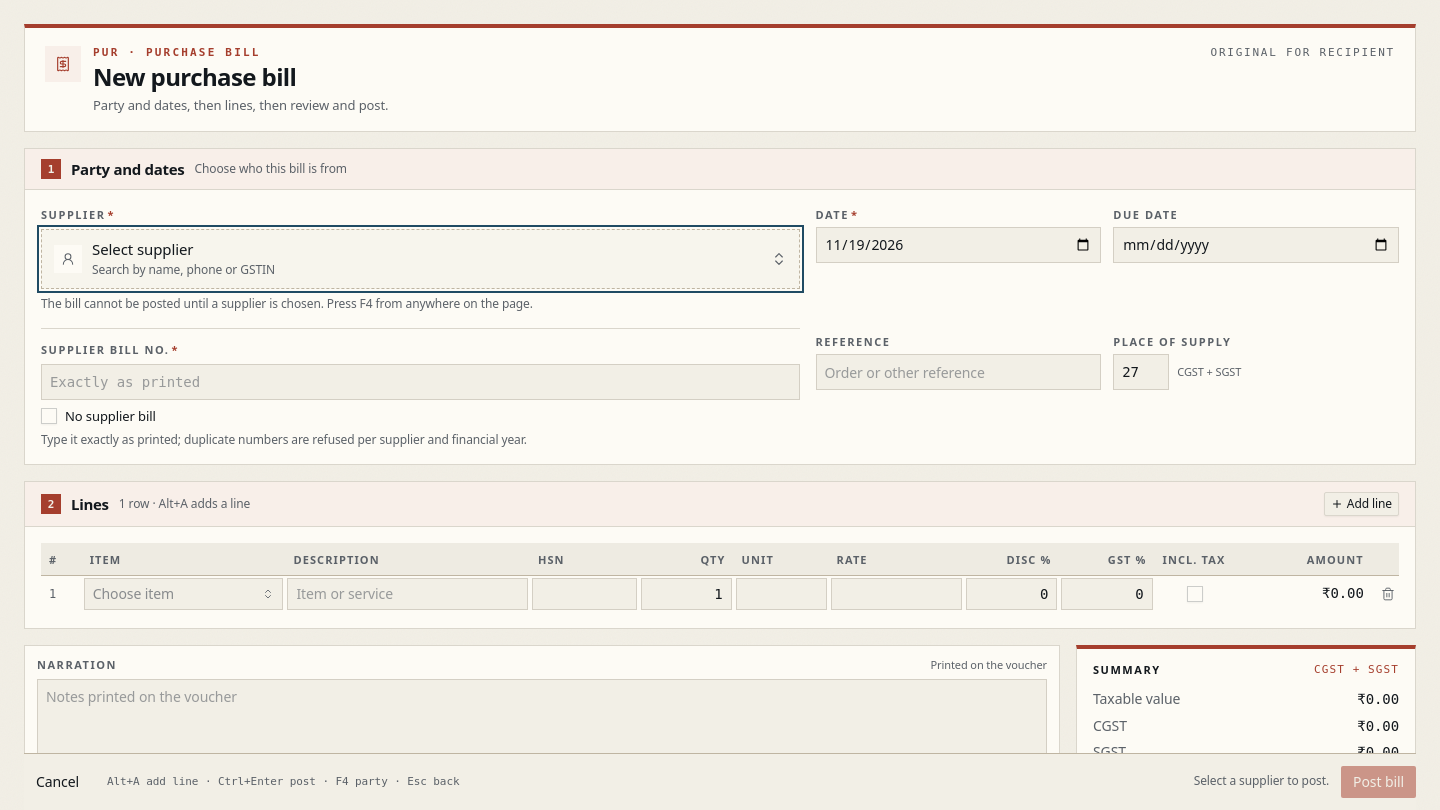
it: Purchase supplier bill number › shows a duplicate supplier bill inline on the field
The image size is (1440, 810).
Click the dropdown labelled "Select supplier" at [114, 249], box [41,229,800,289]
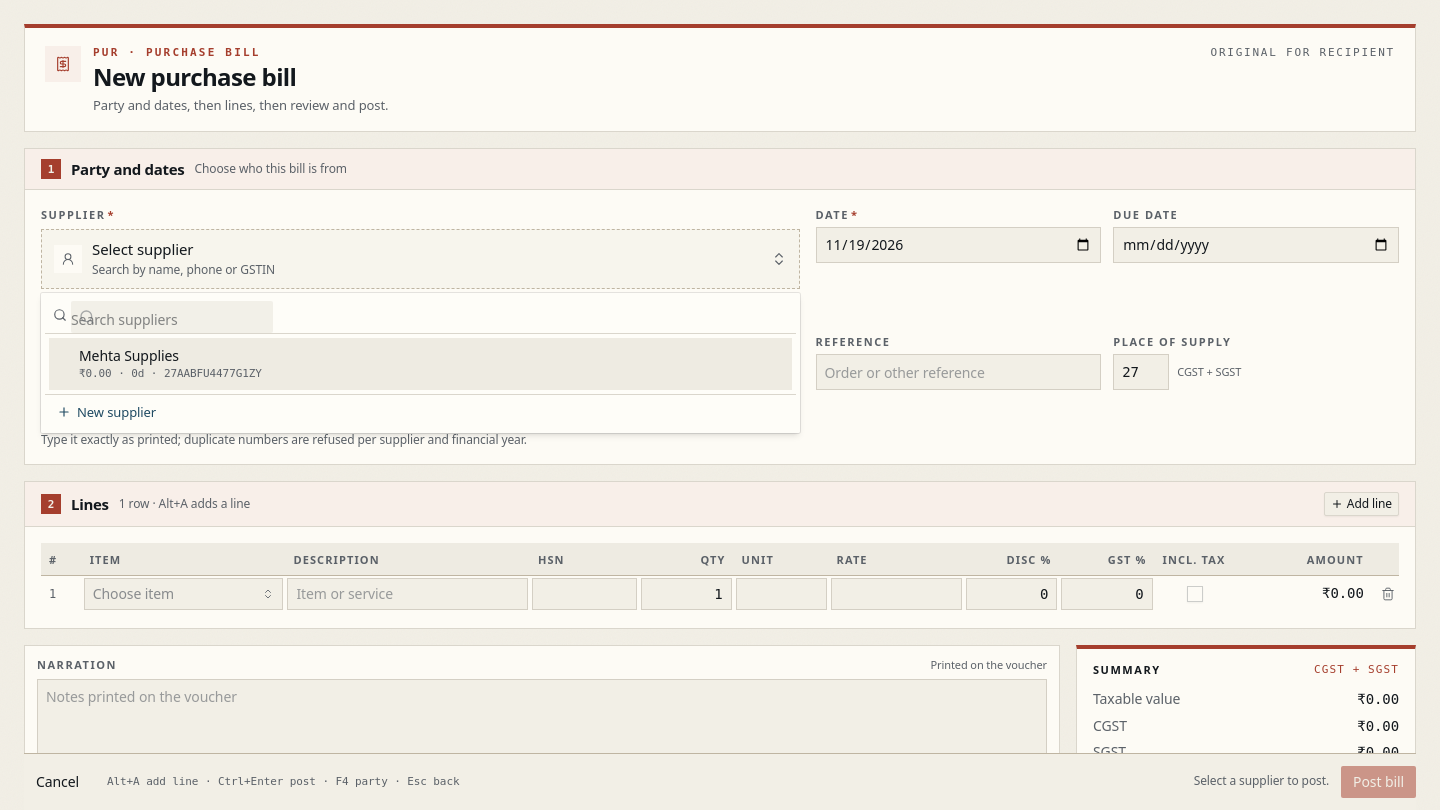
Click the text "Mehta Supplies" at [129, 356], box [79,346,179,365]
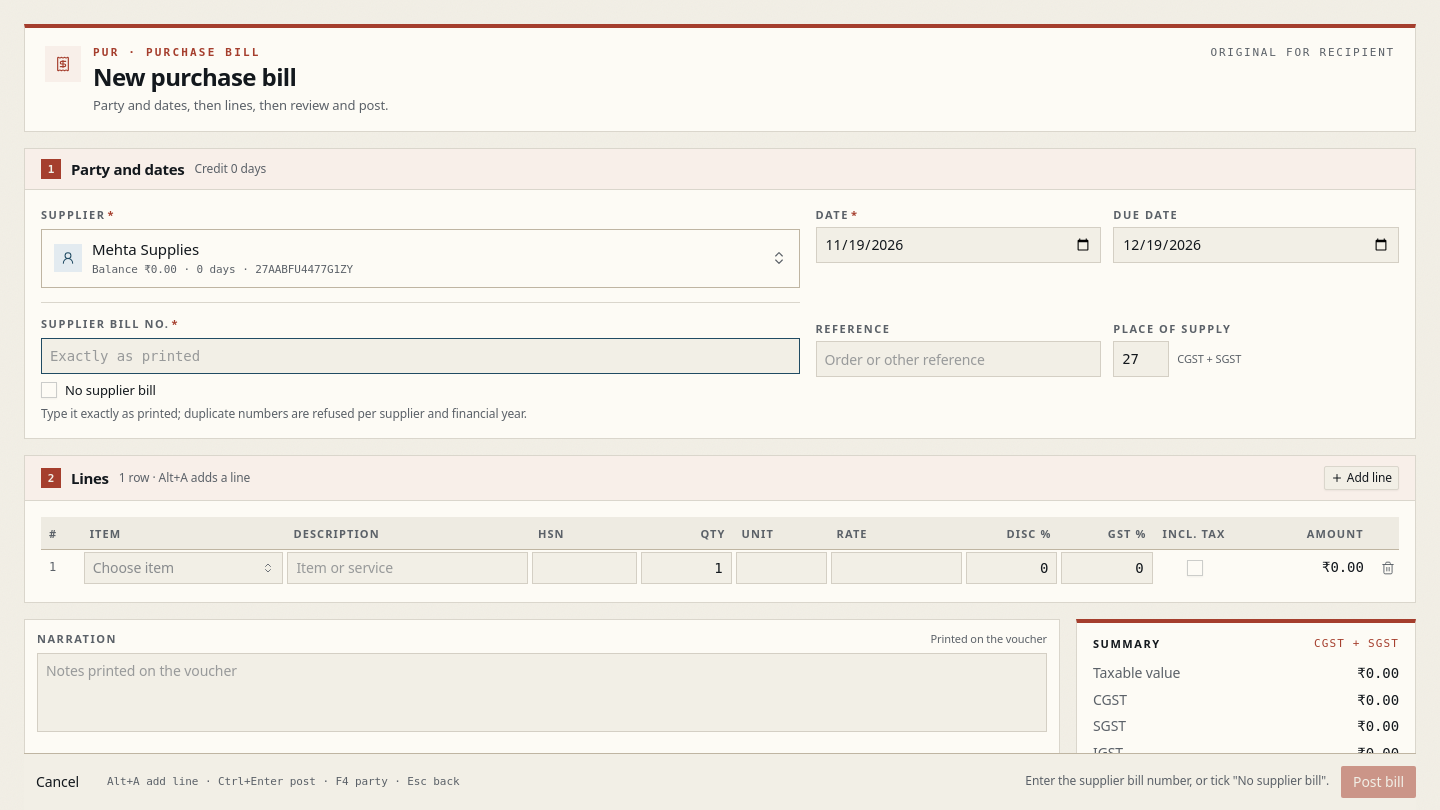
Type "Packing tape" into the field named "Description for line 1" at [408, 568], box [287,552,528,584]
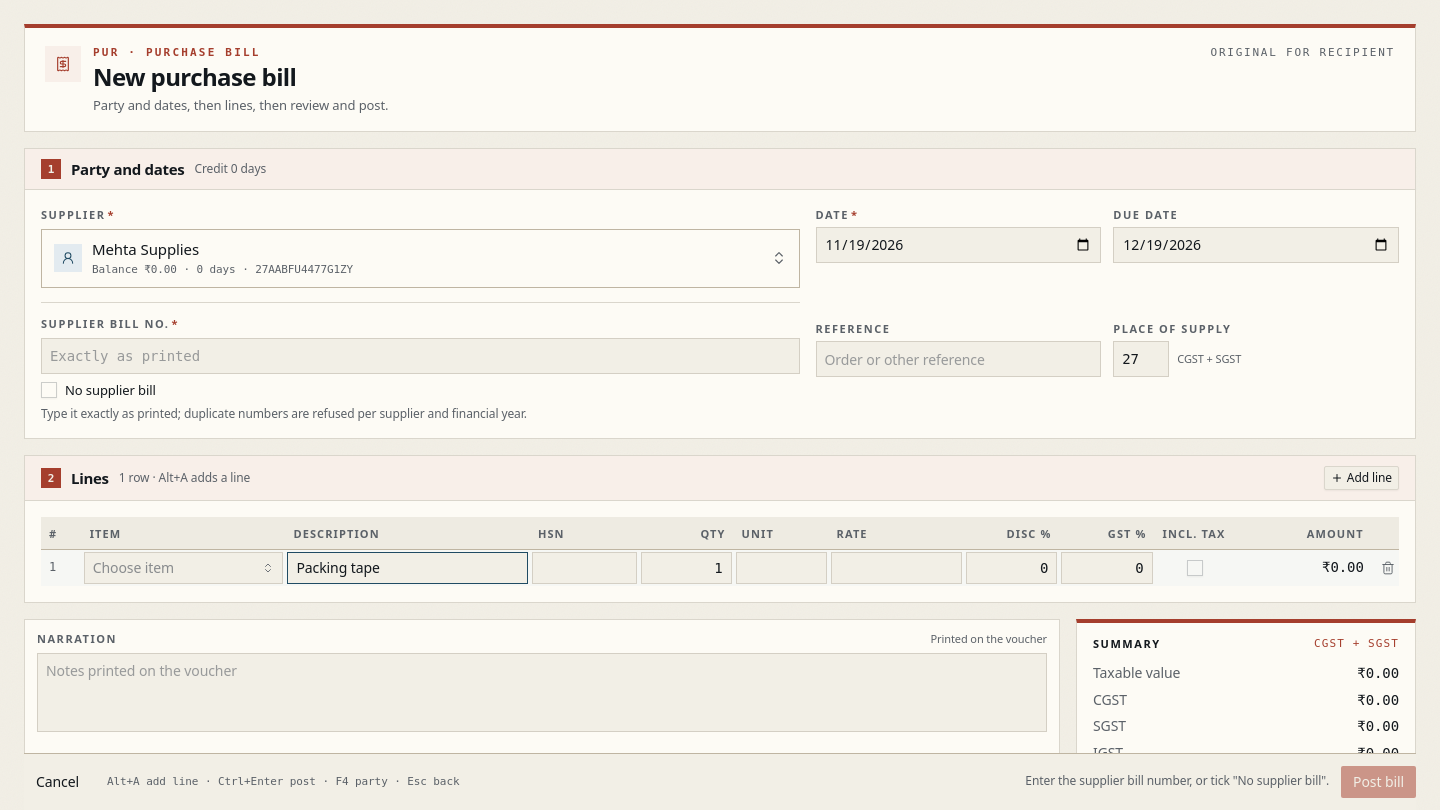
Type "100" into the field named "Rate for line 1" at [896, 568], box [831,552,962,584]
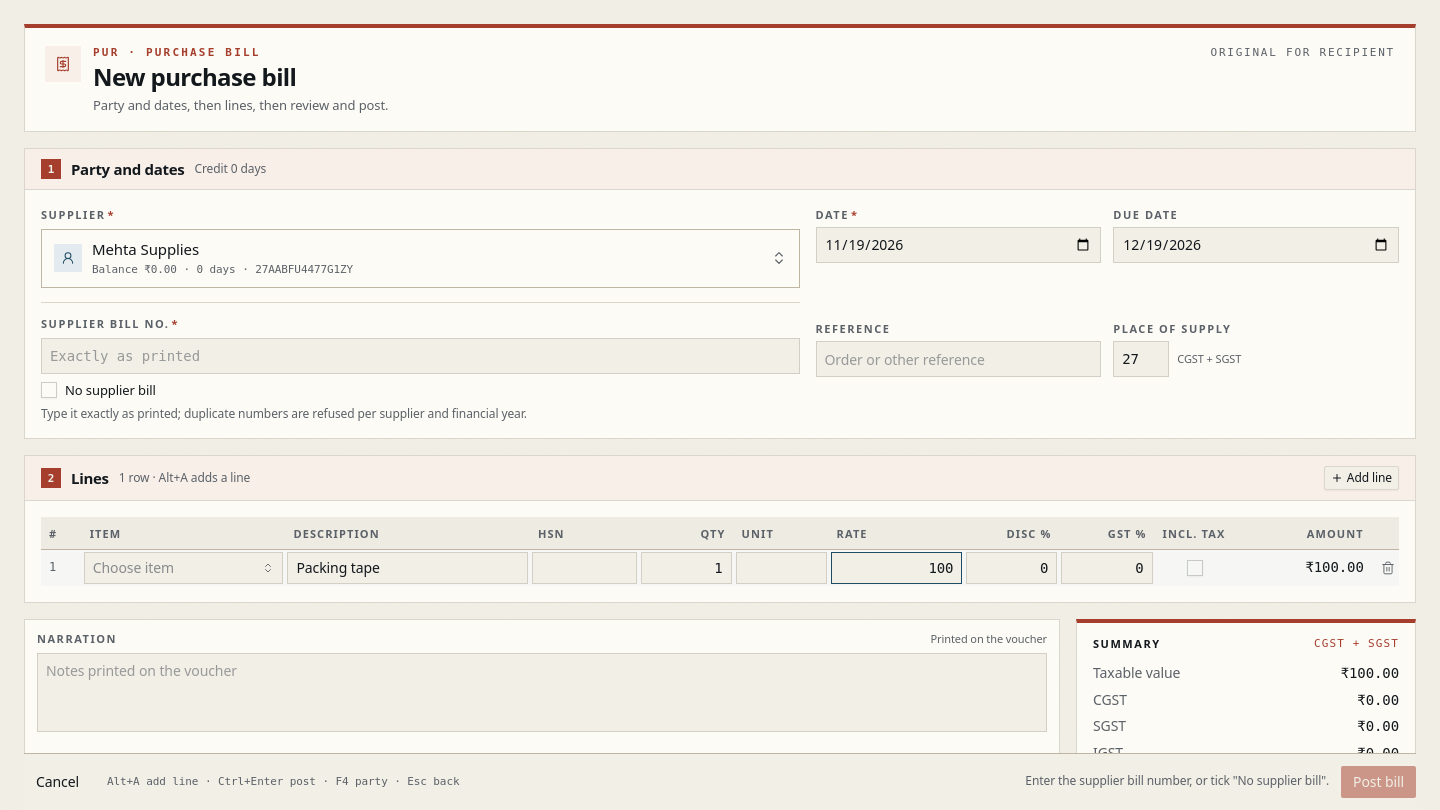
Type "TC/2026-27/583" into the field labelled "Supplier bill no.*" at [420, 356], box [41,338,800,374]
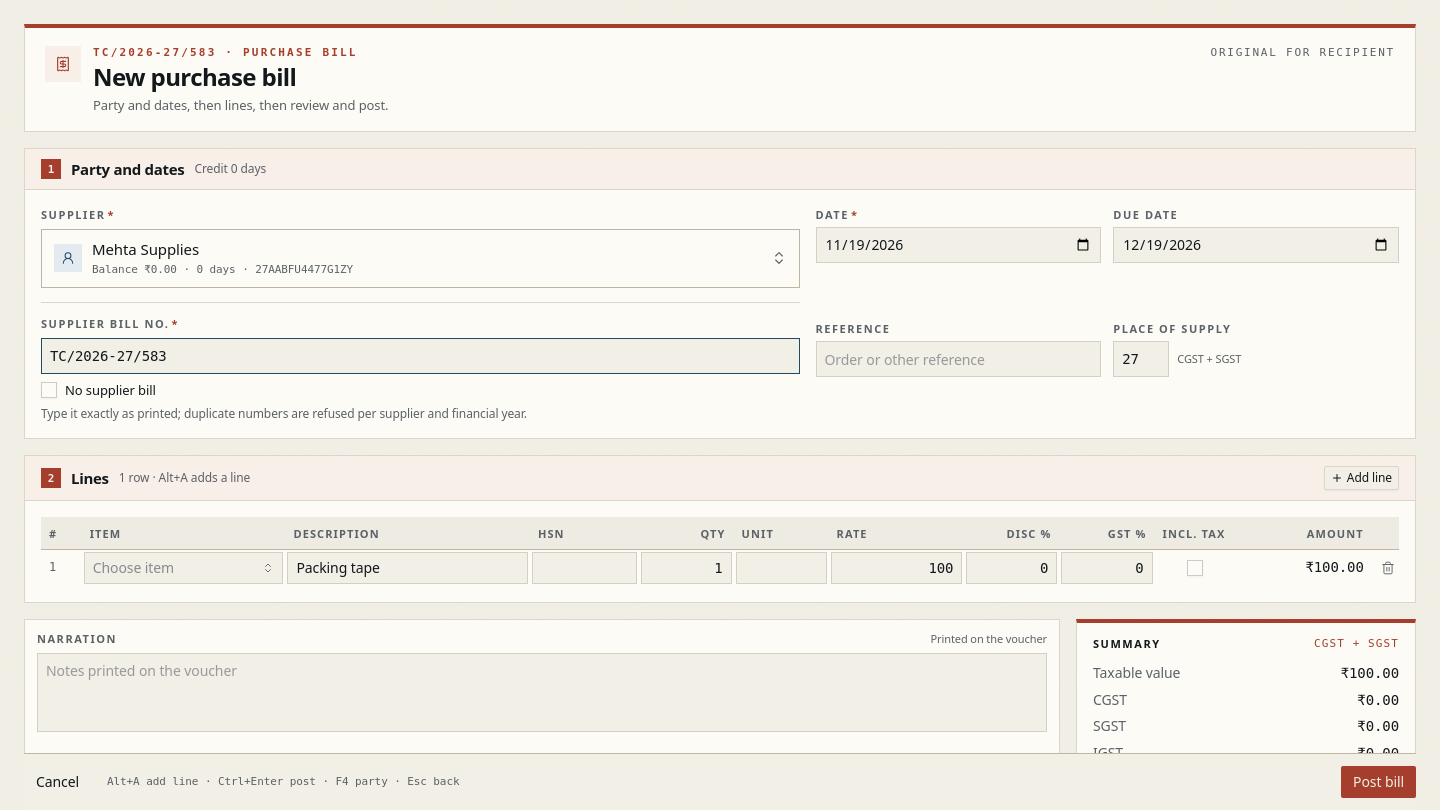
Click the button "Post bill" at [1379, 782], box [1341,766,1416,798]
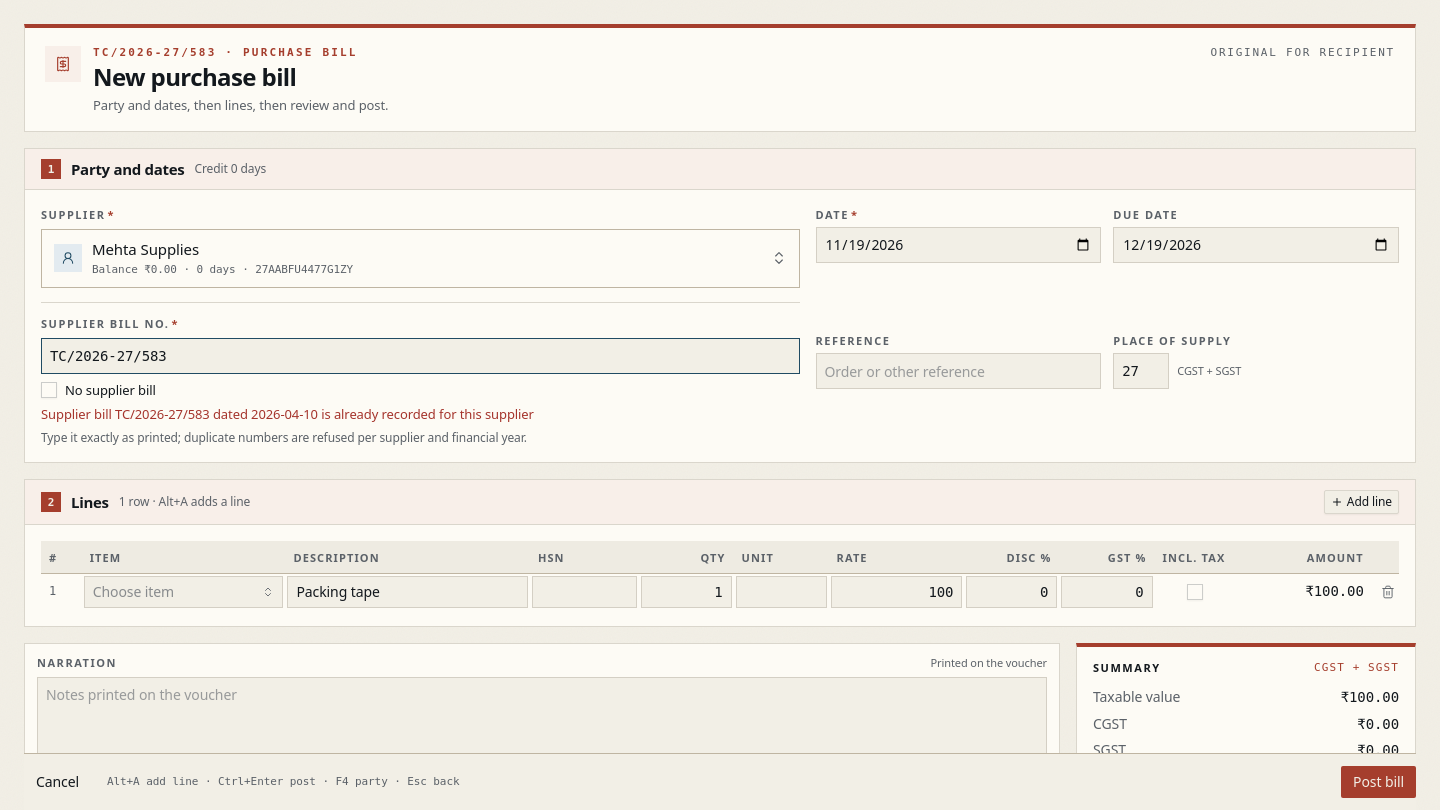
Now the message shows "Supplier bill TC/2026-27/583 dated 2026-04-10 is already recorded for this supplier", box [41,405,534,423]
